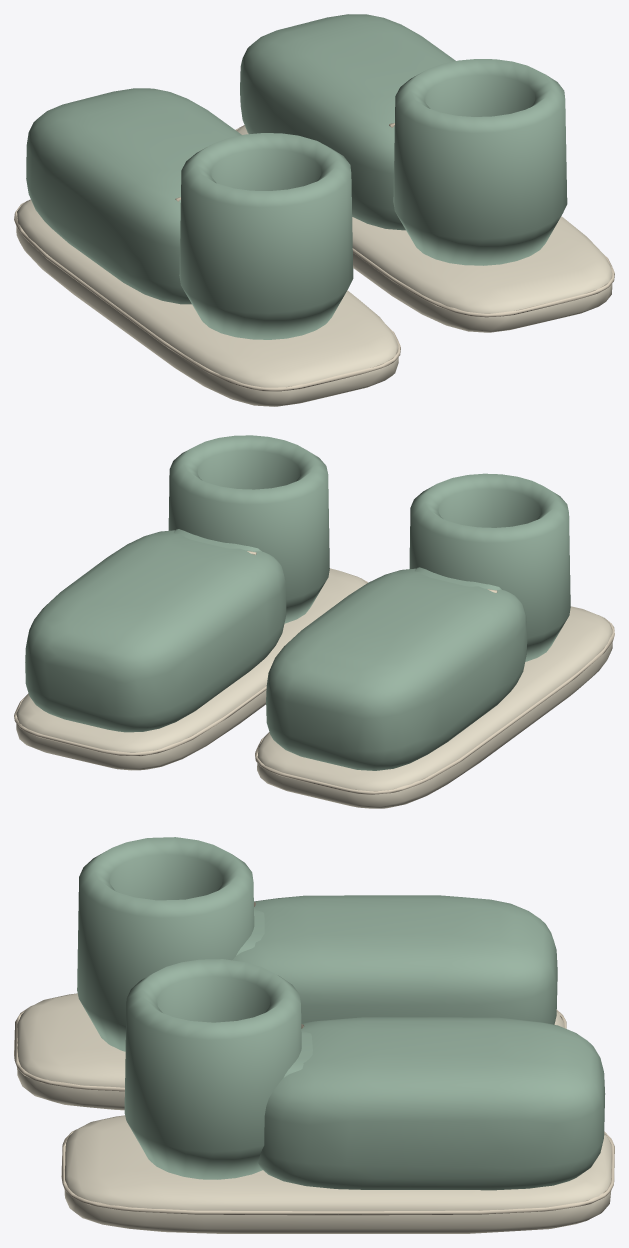
The model's file is Sneakers.glb.
The picture shows the model from 3 angles, top to bottom: view 1: azimuth 30°, elevation 25°; view 2: azimuth 150°, elevation 25°; view 3: azimuth 270°, elevation 25°; orthographic projection. The views are drawn at different scales.
Parts seen in each view (by area): view 1: Sneakers_Mesh; view 2: Sneakers_Mesh; view 3: Sneakers_Mesh.
Part boxes in pixels (left/top/right/bottom): Sneakers_Mesh: left=14, top=14, right=614, bottom=406; Sneakers_Mesh: left=14, top=435, right=614, bottom=808; Sneakers_Mesh: left=14, top=837, right=614, bottom=1233.
Size of the model in its own units: 0.2639 by 0.114 by 0.304.
